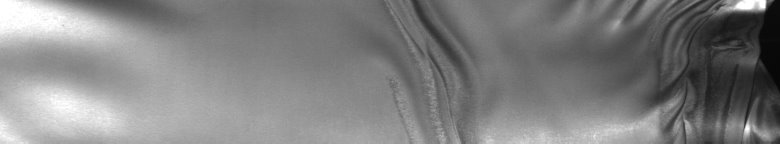ke: (577, 4, 744, 136)
